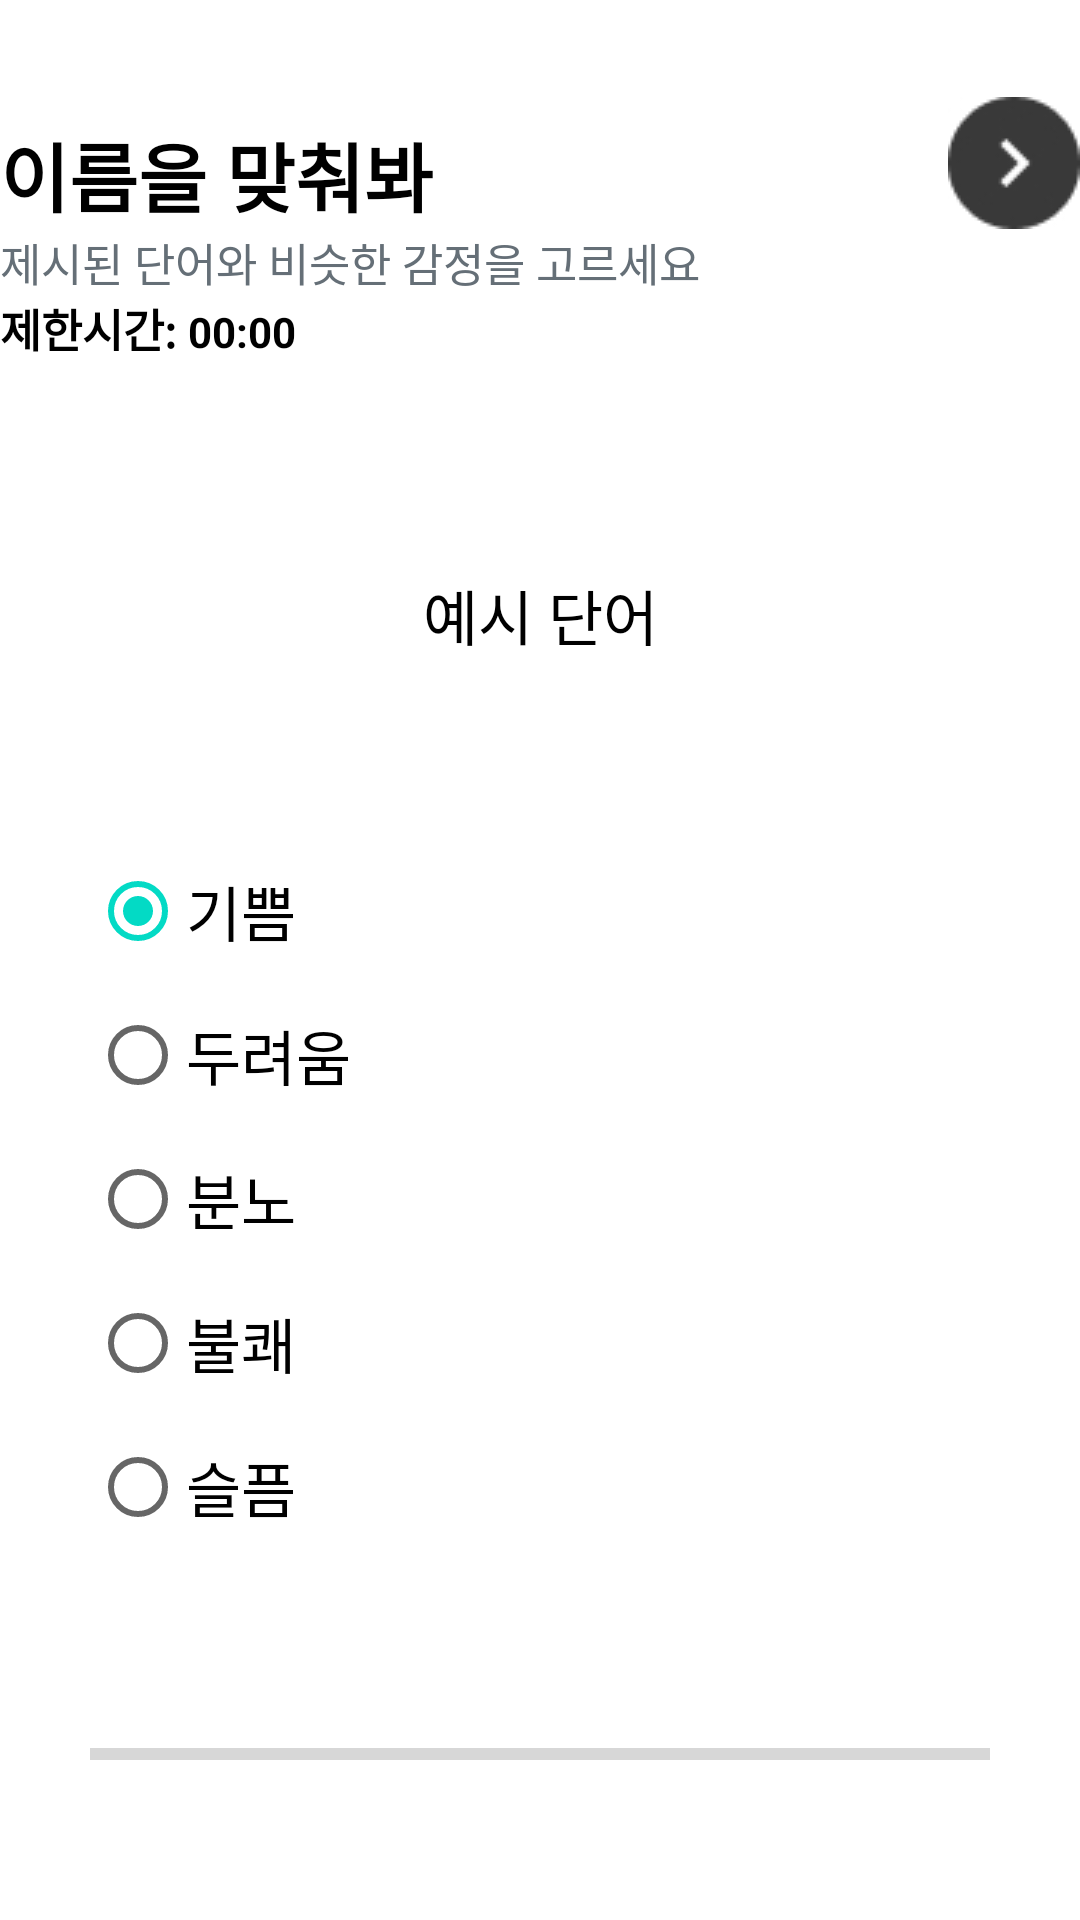

Screen size 1080px x 1920px. Icon name, then its center in pixels as (x,y):
arrow: (1014,163)
